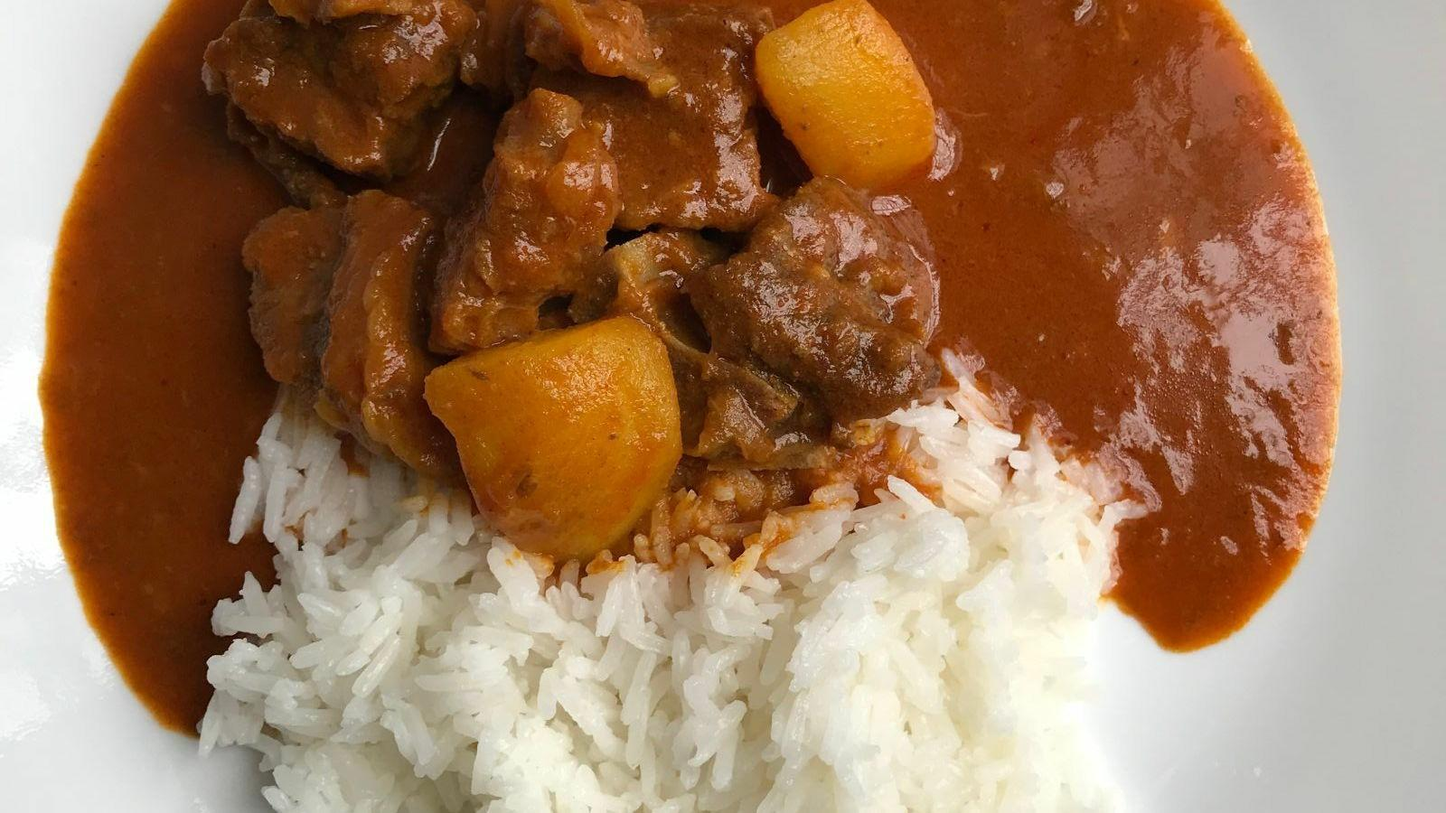MuttonCurry: (40, 0, 1334, 737)
WhiteRice: (200, 381, 1133, 813)
